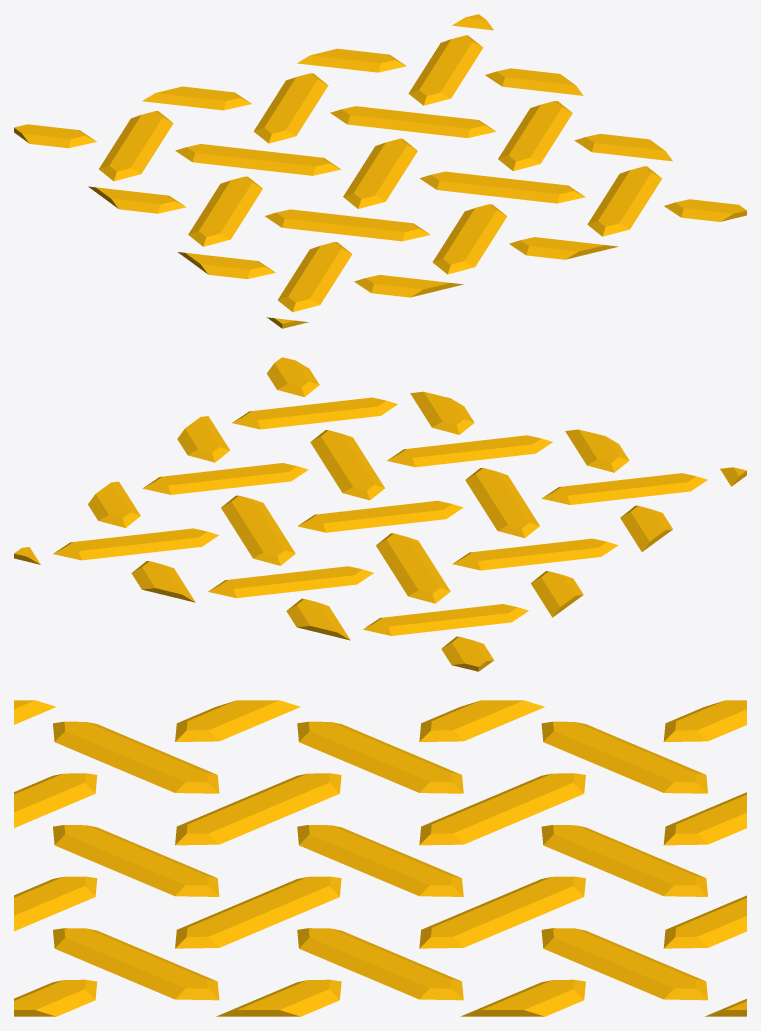
File: sp_grip_metal.dae
3 views of the same model, one above another, from view 1: azimuth 30°, elevation 25°; view 2: azimuth 150°, elevation 25°; view 3: azimuth 270°, elevation 25° (orthographic). The views are drawn at different scales.
Parts seen in each view (by area): view 1: grip_metal; view 2: grip_metal; view 3: grip_metal.
Boxes of the visible parts, x1=… form: grip_metal: x1=14, y1=14, x2=746, y2=328; grip_metal: x1=14, y1=357, x2=746, y2=671; grip_metal: x1=14, y1=700, x2=746, y2=1016.
Bounding box in the file's own units: 0.25 × 0.25 × 0.0025.
